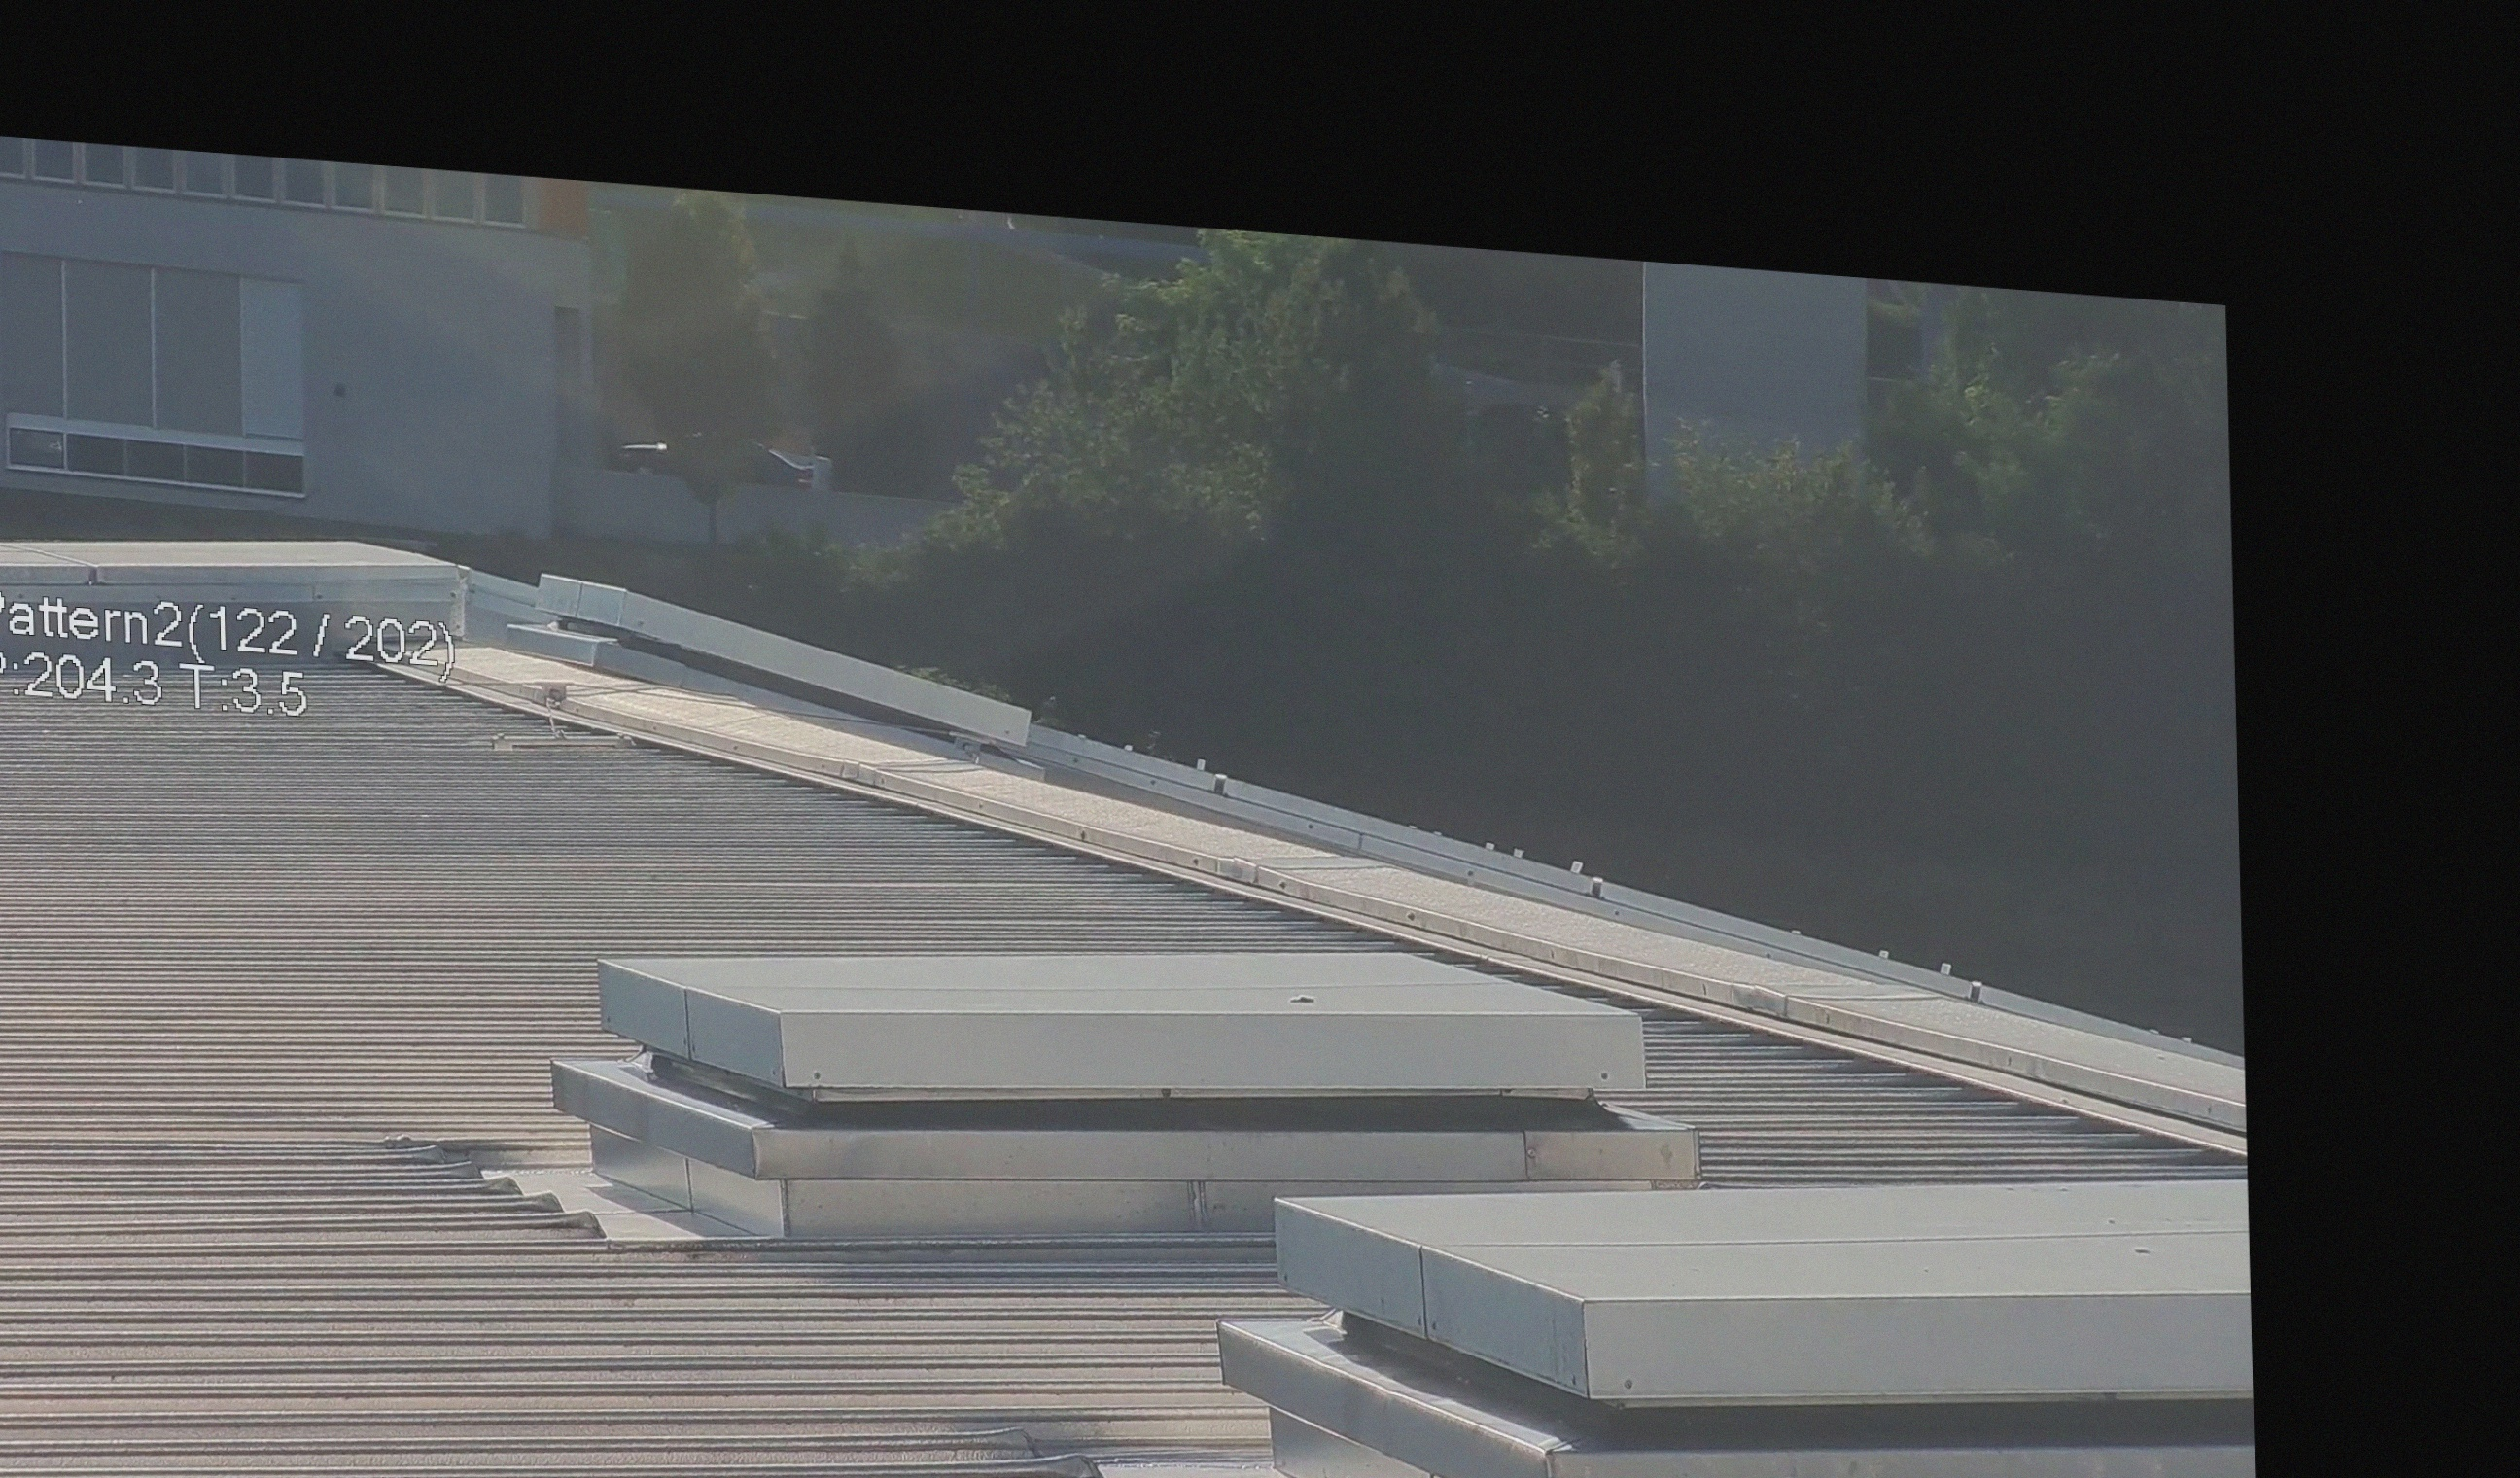Other: (615, 401, 823, 530)
